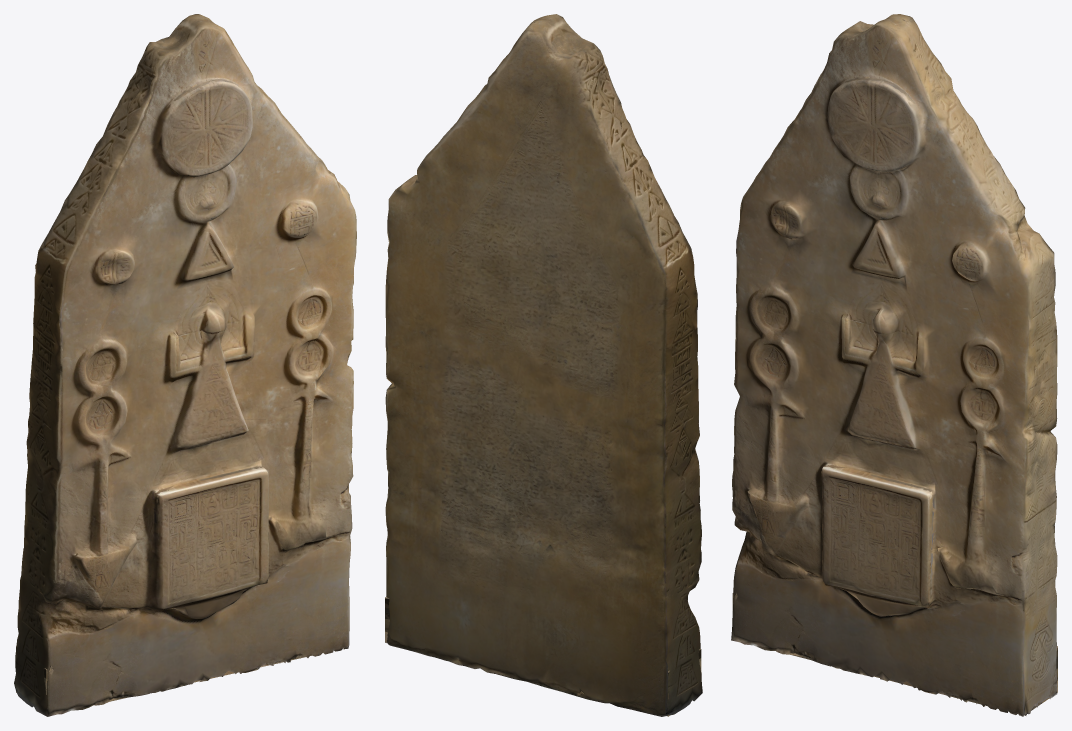
File: Ancient_Mesopotamian__0525135605_texture.fbx
3 views of the same model, side by side, from view 1: azimuth 30°, elevation 25°; view 2: azimuth 150°, elevation 25°; view 3: azimuth 330°, elevation 25° (orthographic). The views are drawn at different scales.
Visible parts, largest first — view 1: mesh; view 2: mesh; view 3: mesh.
Part boxes in pixels (x1,y1,x2,y2): mesh: (14,14,356,716); mesh: (385,14,702,716); mesh: (731,14,1057,716).
Size of the model in its own units: 97.61 by 200 by 27.06.
1 material, 1 textured.
